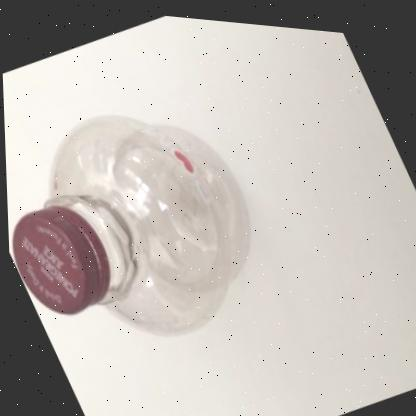Plastic: (10, 112, 249, 332)
